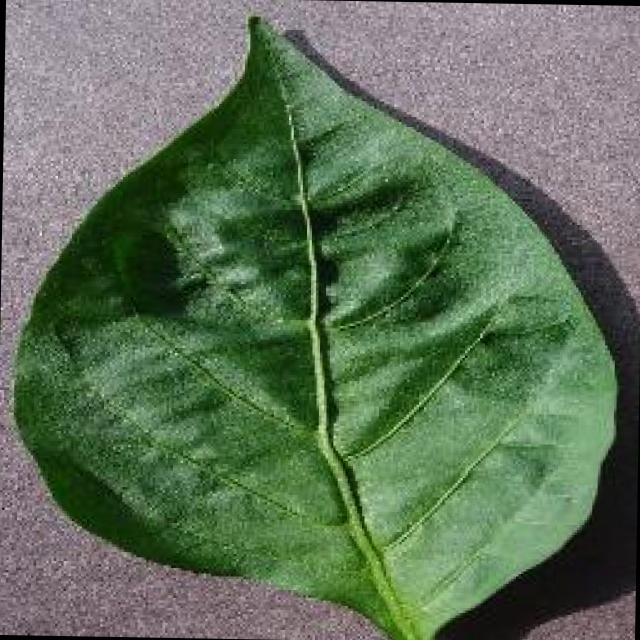Chilli_Healthy: (4, 7, 625, 640)
